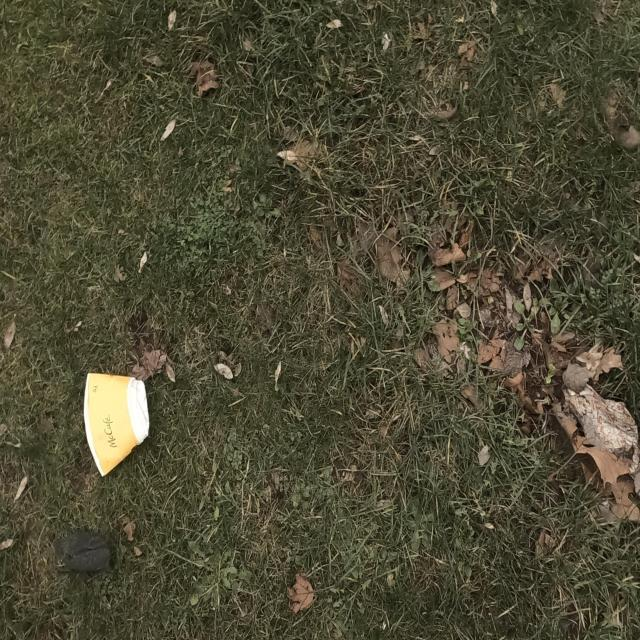Cup: (84, 368, 152, 480)
